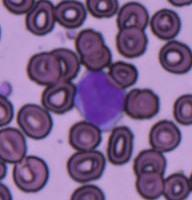L: (73, 70, 126, 130)
